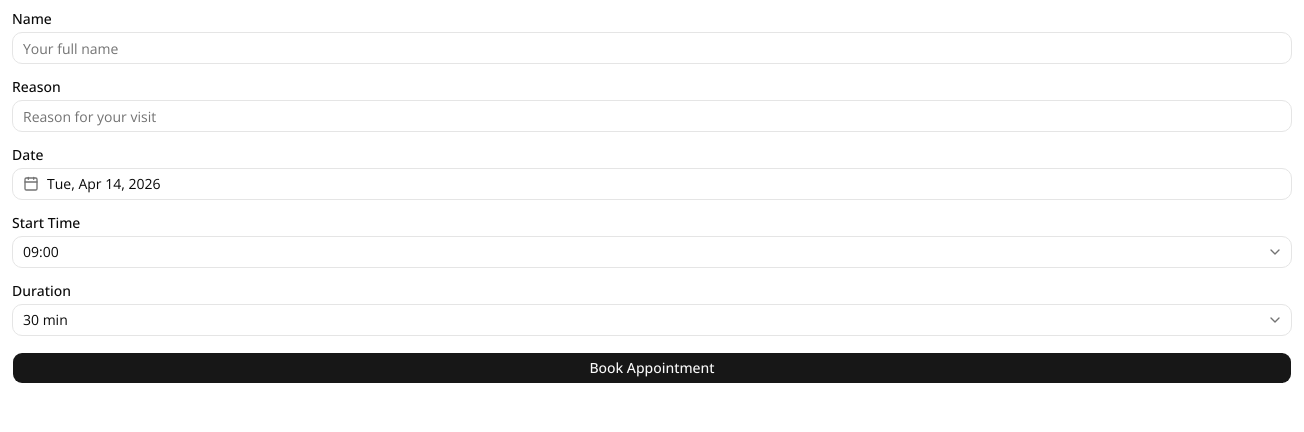
Test case: BookingForm › create mode (no booking prop) › error handling › displays API error message on 422 response
In the field labelled "Name": [652, 48] box [12, 32, 1292, 64], type "John Smith"
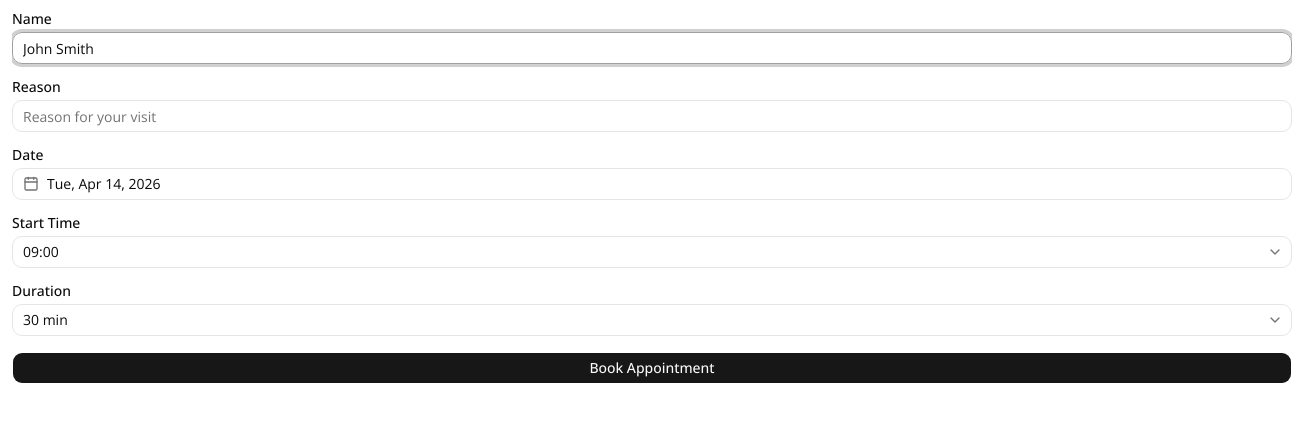
In the field labelled "Reason": [652, 116] box [12, 100, 1292, 132], type "Knee pain"
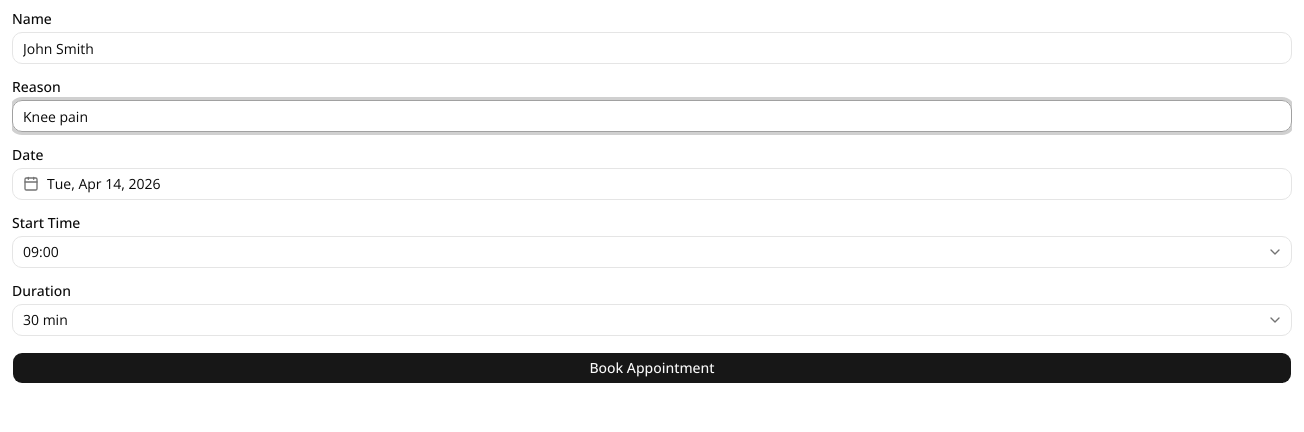
Click the button "Book Appointment": [652, 368] box [12, 352, 1292, 384]
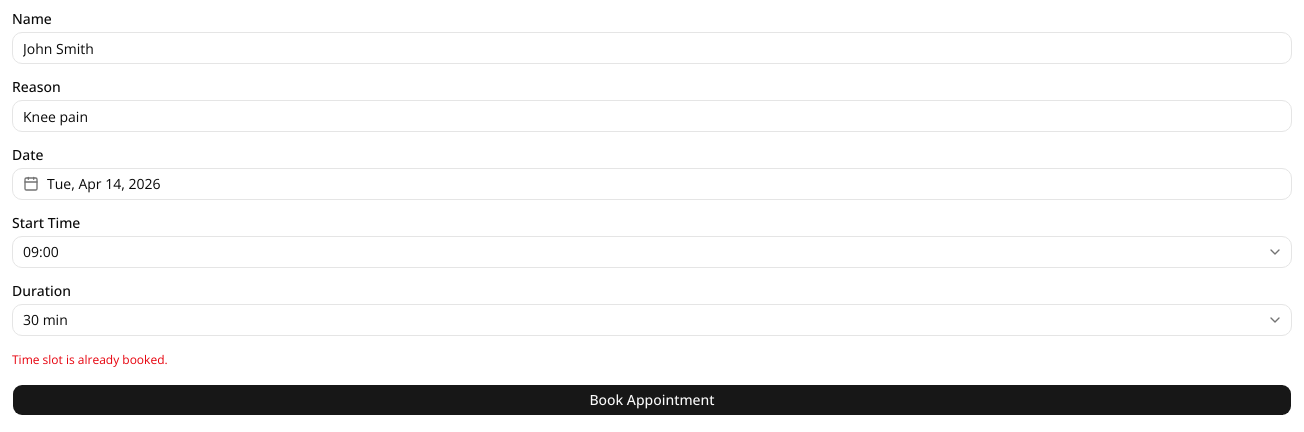
Expected: the message reads "Time slot is already booked.", [12, 351, 168, 368]
